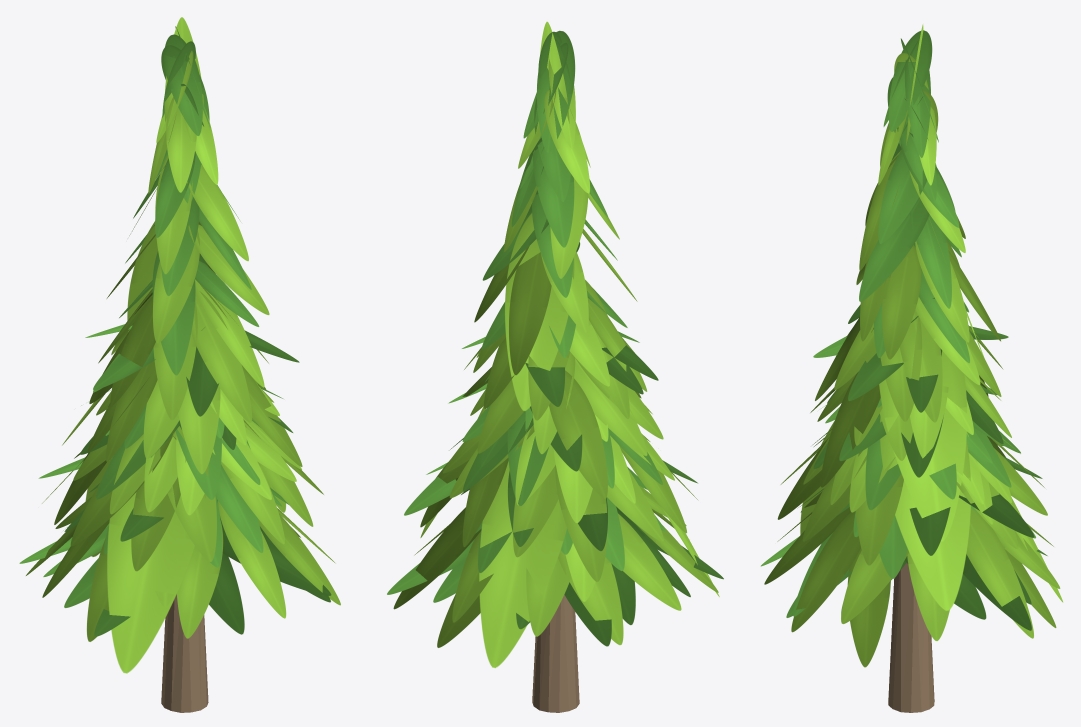
File: tree_tall_deep_lod1.glb
The picture shows the model from 3 angles, left to right: view 1: azimuth 30°, elevation 25°; view 2: azimuth 150°, elevation 25°; view 3: azimuth 270°, elevation 25°; orthographic projection.
Visible parts, largest first — view 1: foliage, trunk; view 2: foliage, trunk; view 3: foliage, trunk.
Part boxes in pixels (box(x1,y1,x2,y2)): foliage: box(19, 17, 340, 673); trunk: box(161, 594, 208, 712); foliage: box(387, 21, 723, 668); trunk: box(532, 594, 579, 712); foliage: box(760, 24, 1063, 667); trunk: box(888, 563, 934, 712).
Size of the model in its own units: 3.22 by 7.67 by 3.15.
3 materials, 2 textured.
